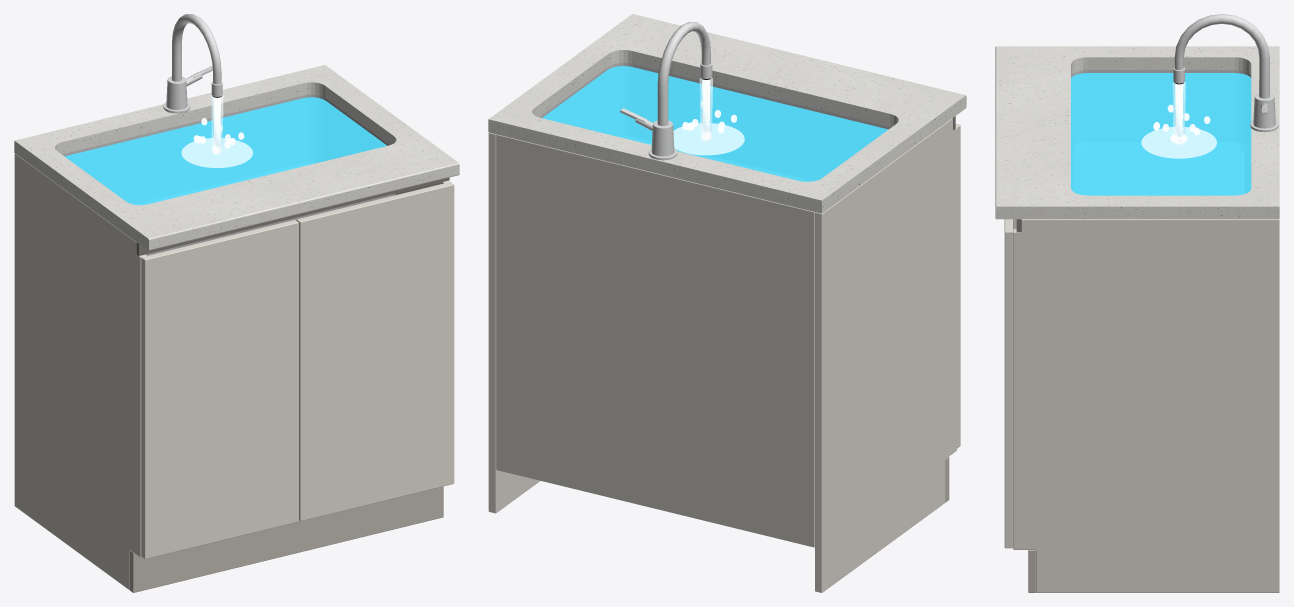
Rendered from sink_counter.glb.
The picture shows the model from 3 angles, left to right: view 1: azimuth 30°, elevation 25°; view 2: azimuth 150°, elevation 25°; view 3: azimuth 270°, elevation 25°; orthographic projection. The views are drawn at different scales.
Parts seen in each view (by area): view 1: sink_counter_fronts, sink_counter_carcass, sink_counter_countertop, sink_counter_pool, sink_counter_faucet, sink_counter_splash, sink_counter_basin, sink_counter_gola, sink_counter_water; view 2: sink_counter_carcass, sink_counter_countertop, sink_counter_pool, sink_counter_faucet, sink_counter_splash, sink_counter_fronts, sink_counter_basin, sink_counter_water; view 3: sink_counter_carcass, sink_counter_countertop, sink_counter_pool, sink_counter_fronts, sink_counter_faucet, sink_counter_splash, sink_counter_water, sink_counter_basin.
Boxes of the visible parts, box(x1,y1,x2,y2) form: sink_counter_fronts: box(141, 182, 454, 559); sink_counter_carcass: box(14, 153, 450, 592); sink_counter_countertop: box(14, 65, 459, 250); sink_counter_pool: box(65, 97, 386, 205); sink_counter_faucet: box(163, 14, 222, 113); sink_counter_splash: box(181, 118, 252, 167); sink_counter_basin: box(62, 94, 395, 255); sink_counter_gola: box(136, 177, 449, 255); sink_counter_water: box(211, 95, 223, 154); sink_counter_carcass: box(488, 118, 956, 592); sink_counter_countertop: box(488, 14, 966, 213); sink_counter_pool: box(542, 66, 888, 181); sink_counter_faucet: box(620, 21, 712, 160); sink_counter_splash: box(673, 100, 744, 155); sink_counter_fronts: box(955, 123, 960, 448); sink_counter_basin: box(539, 63, 890, 129); sink_counter_water: box(699, 77, 712, 140); sink_counter_carcass: box(1013, 219, 1279, 592); sink_counter_countertop: box(995, 46, 1279, 219); sink_counter_pool: box(1071, 73, 1251, 195); sink_counter_fronts: box(1004, 219, 1013, 548); sink_counter_faucet: box(1173, 14, 1278, 132); sink_counter_splash: box(1141, 104, 1216, 158); sink_counter_water: box(1172, 82, 1185, 144); sink_counter_basin: box(1071, 70, 1251, 77).
Bounding box in the file's own units: 0.8 × 1.16 × 0.6.
Materials: 12 (1 with a texture image).
